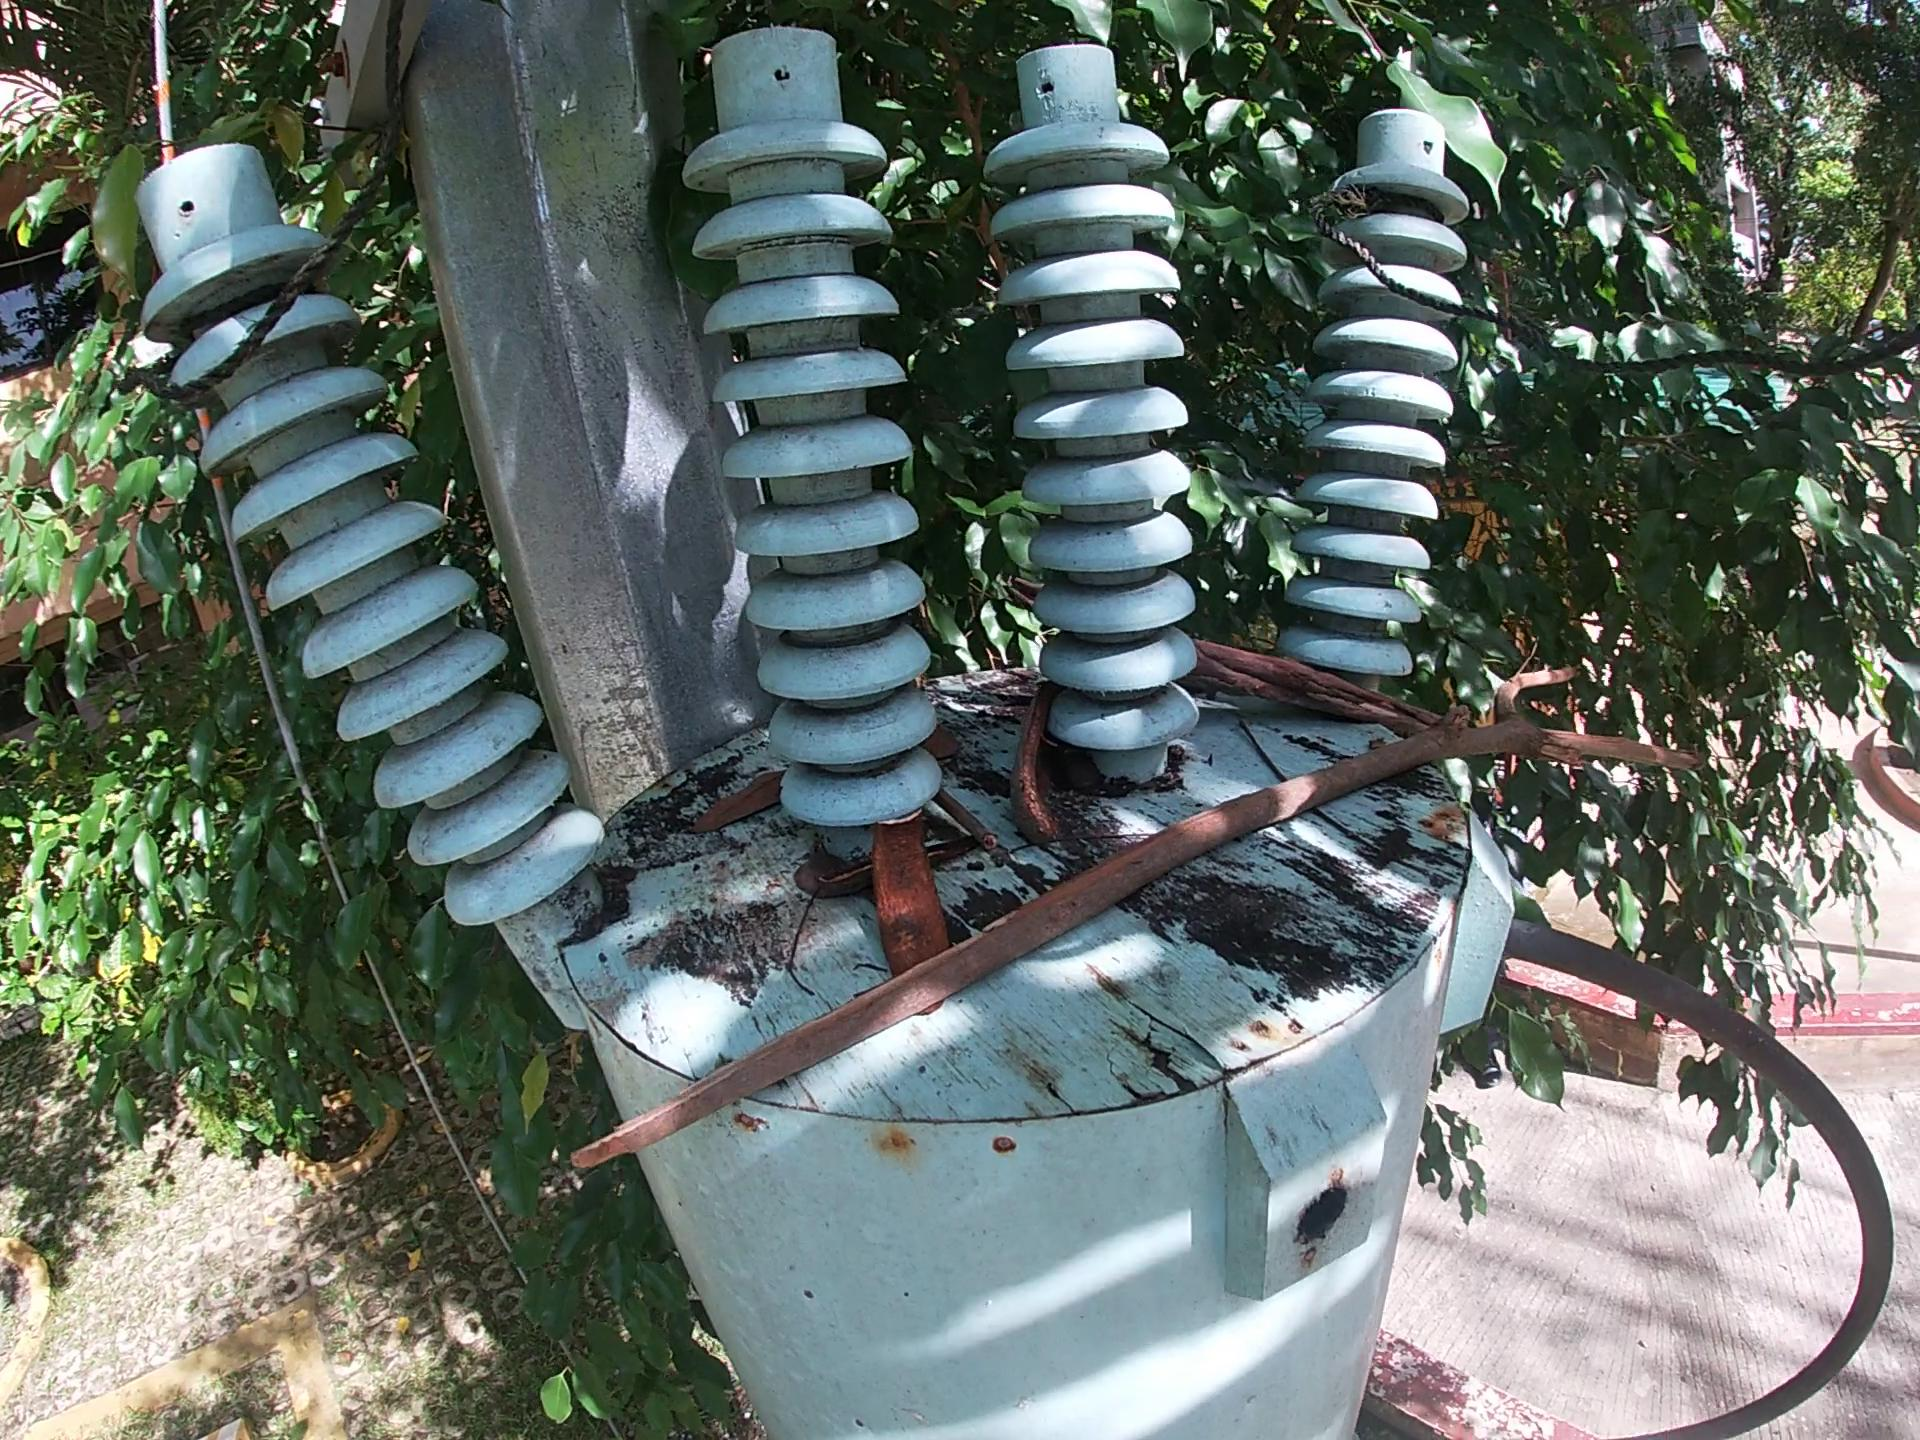leaf: (680, 767, 792, 846), (924, 722, 963, 765)
mahogany fruit: (862, 805, 958, 985), (1005, 682, 1073, 852)
tree branch: (553, 658, 1708, 1184), (1182, 635, 1497, 746), (931, 787, 999, 856)
